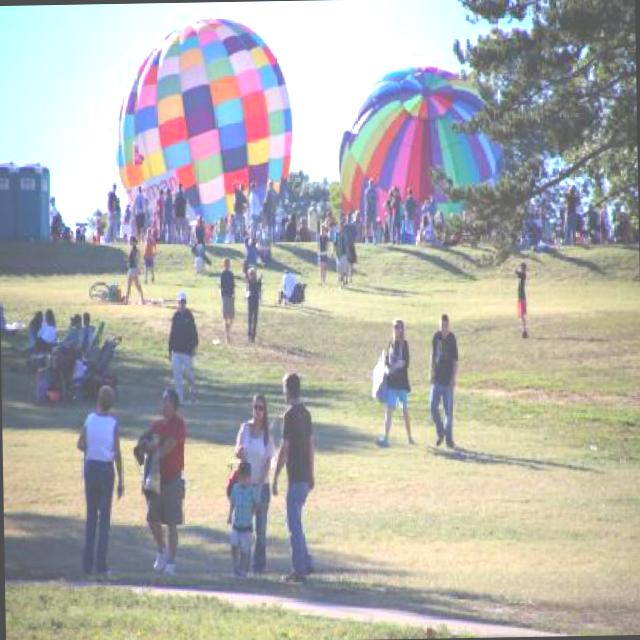Person: (268, 370, 315, 580), (141, 385, 190, 577), (76, 384, 124, 576), (232, 392, 278, 574), (372, 317, 413, 449), (427, 314, 460, 452), (225, 458, 264, 573), (167, 291, 200, 406), (120, 234, 144, 304), (218, 258, 236, 344), (330, 218, 351, 289), (246, 266, 264, 342), (30, 307, 58, 352), (362, 176, 379, 244), (513, 262, 528, 339), (262, 177, 279, 243), (231, 179, 248, 241), (172, 180, 187, 243), (274, 268, 298, 304), (143, 226, 158, 282), (316, 222, 330, 282), (388, 184, 402, 243), (192, 212, 208, 260), (248, 180, 260, 236)
